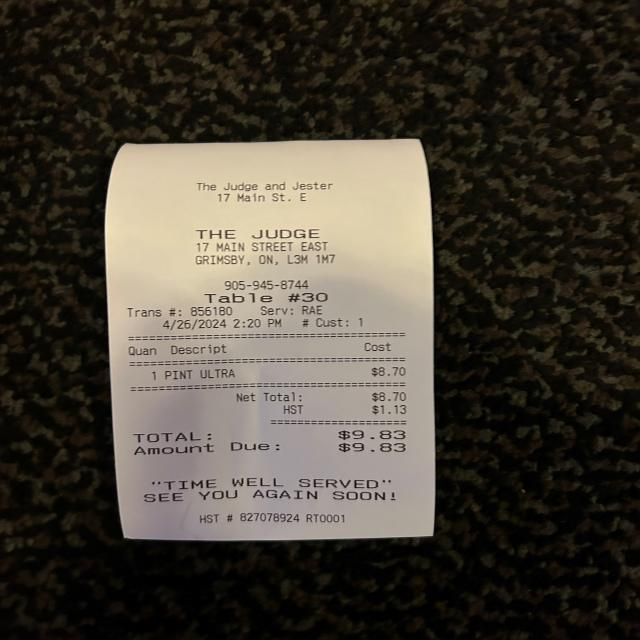item: (161, 364, 410, 384)
store_name: (187, 223, 328, 244)
total_amount: (124, 425, 413, 447)
transaction_date: (158, 315, 232, 334)
